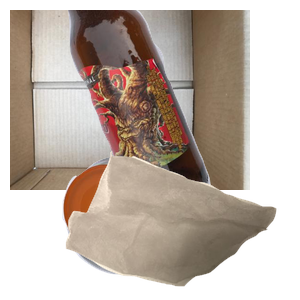cardboard: (10, 10, 250, 190)
glass: (65, 10, 300, 190)
plastic: (60, 152, 237, 300)
trash: (63, 149, 300, 300)
